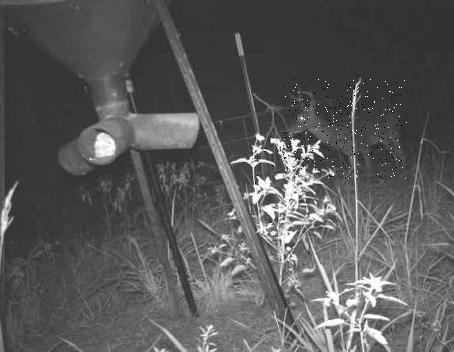Deer: (282, 79, 408, 179)
